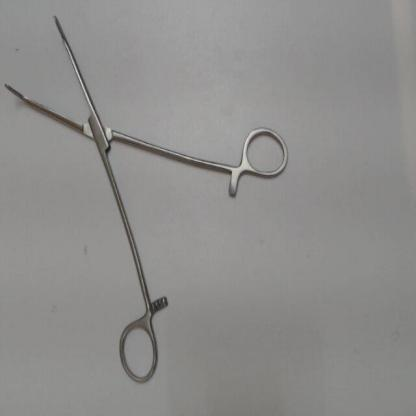Lahey Forceps: (0, 7, 294, 389)
